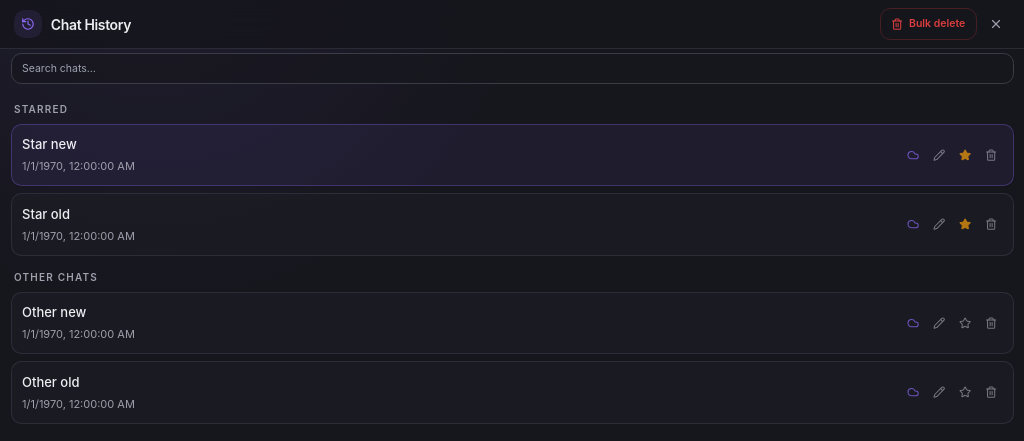
Test: session management UI › filters sessions by title through the history search box
Expected: the text "Other old" is shown, top-left (22, 374), bottom-right (80, 390)
Type "star" into the field with test id "history-search" at coordinates (512, 68), box top-left (10, 52), bottom-right (1014, 84)
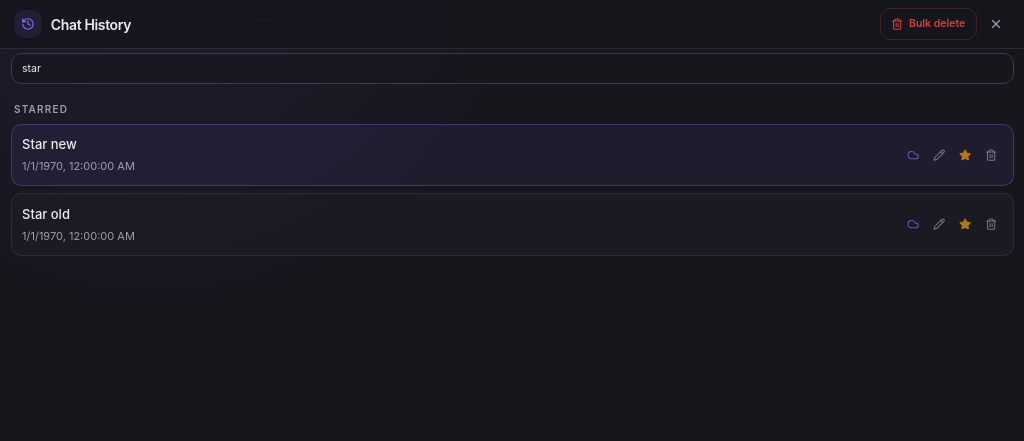
Expected: the text "Star old" is shown, top-left (22, 206), bottom-right (70, 222)
Now the button "Other old" is gone
Now the button "Other new" is gone
